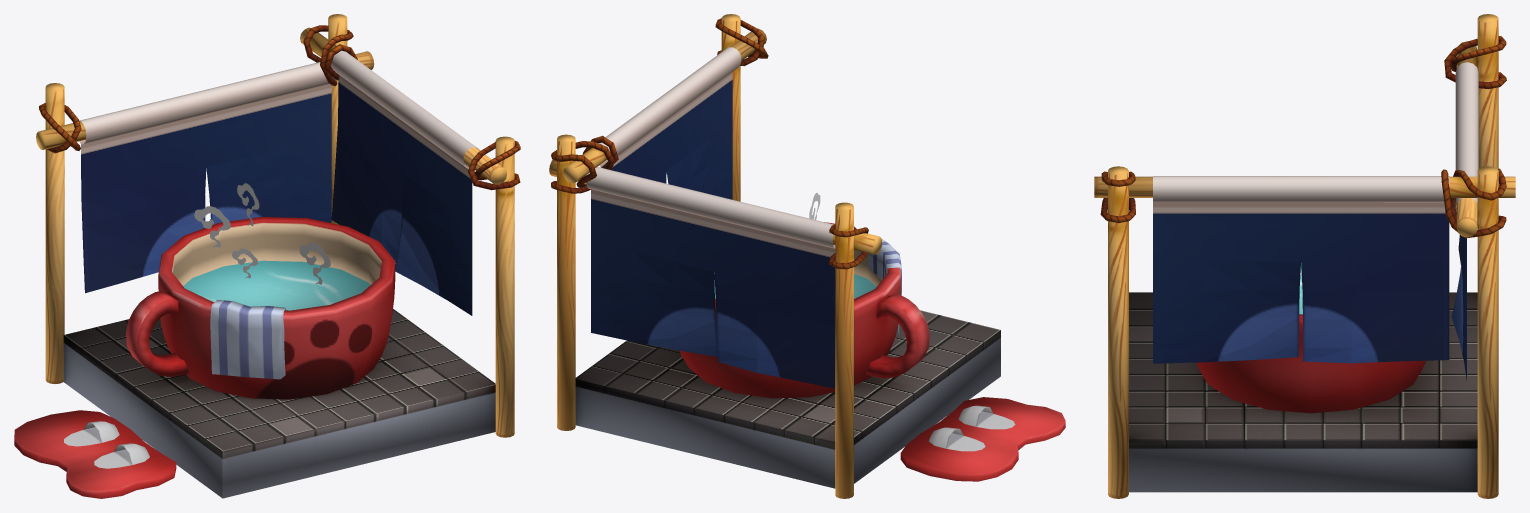
File: CaBeiWenQuan1.FBX
The picture shows the model from 3 angles, left to right: view 1: azimuth 30°, elevation 25°; view 2: azimuth 150°, elevation 25°; view 3: azimuth 270°, elevation 25°; orthographic projection. The views are drawn at different scales.
Parts seen in each view (by area): view 1: Object001; view 2: Object001; view 3: Object001.
Part boxes in pixels (box(x1,y1,x2,y2)): Object001: box(14, 14, 520, 498); Object001: box(549, 14, 1065, 498); Object001: box(1094, 14, 1515, 498).
Bounding box in the file's own units: 529 × 364 × 430.
Materials: 5 (5 with a texture image).
